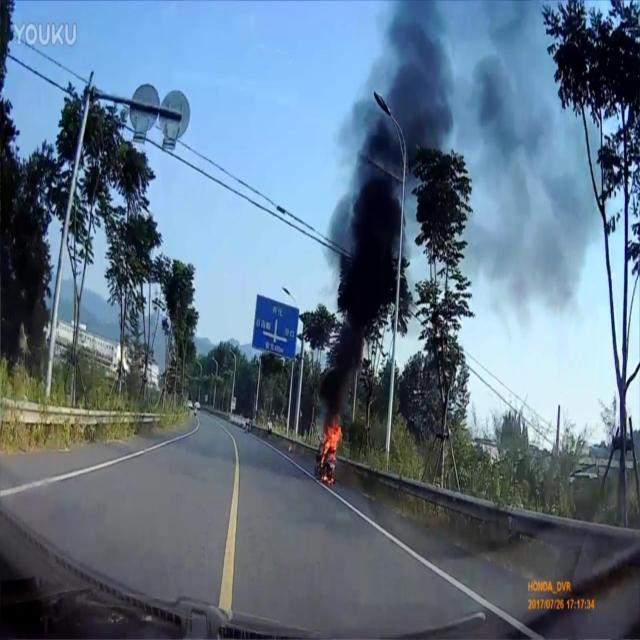Fire: (317, 422, 343, 485)
Smoke: (307, 1, 604, 432)
